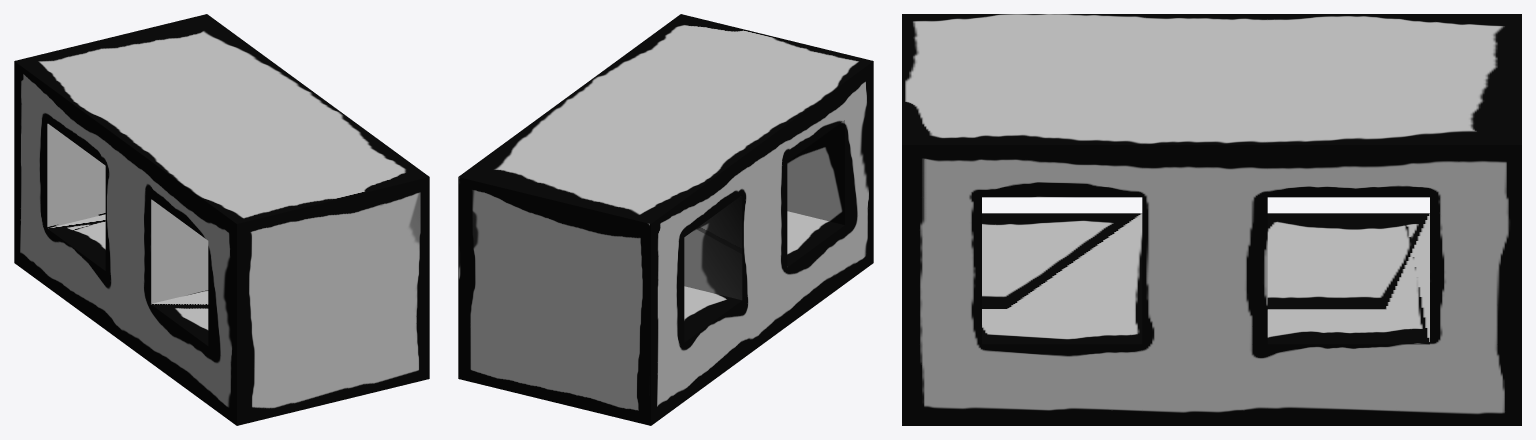
The model's file is bigmode_cinderblock.glb.
3 renders of one model, left to right at view 1: azimuth 30°, elevation 25°; view 2: azimuth 150°, elevation 25°; view 3: azimuth 270°, elevation 25°, orthographic. The views are drawn at different scales.
Parts seen in each view (by area): view 1: cinderblock; view 2: cinderblock; view 3: cinderblock.
Part boxes in pixels (bbox=[...]): cinderblock: bbox=[14, 14, 429, 425]; cinderblock: bbox=[458, 14, 873, 425]; cinderblock: bbox=[902, 14, 1521, 425].
Size of the model in its own units: 2 by 2 by 4.
Materials: 1 (1 with a texture image).
